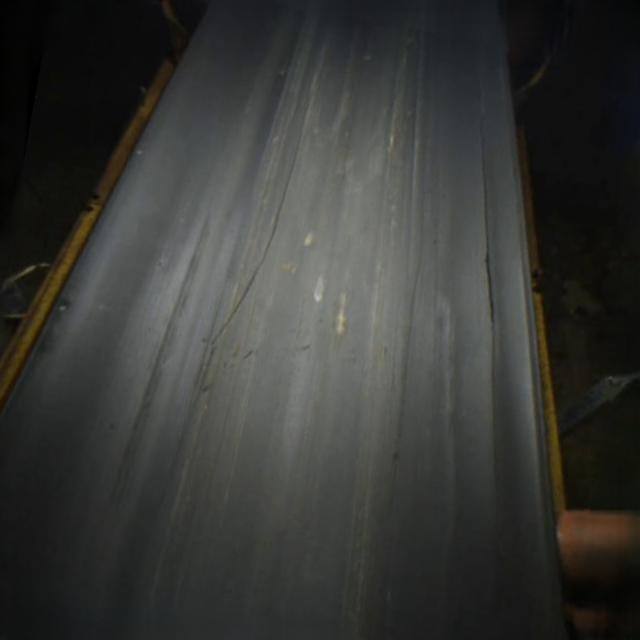Tear: (194, 149, 314, 363), (469, 128, 508, 382)
